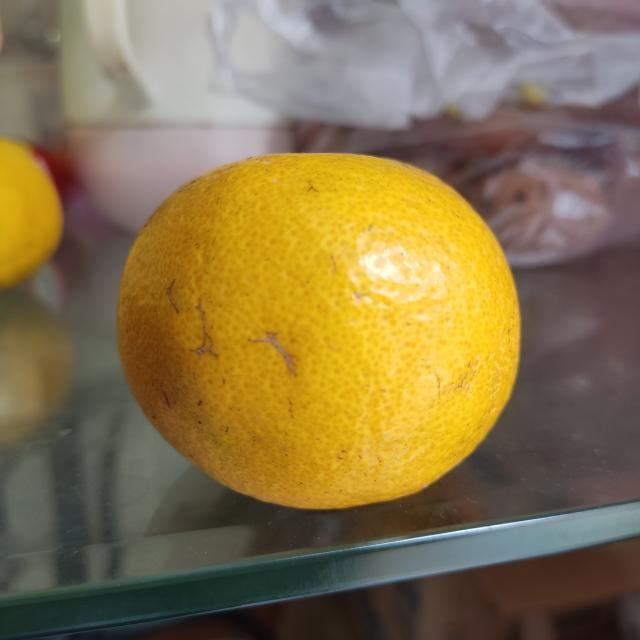agrume: (110, 146, 530, 513)
